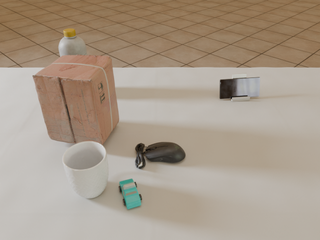bottle: (59, 29, 87, 57)
box: (32, 55, 119, 145)
cup: (63, 141, 109, 198)
mouse: (135, 142, 185, 169)
phone: (220, 77, 260, 99)
toy_car: (119, 179, 142, 209)
